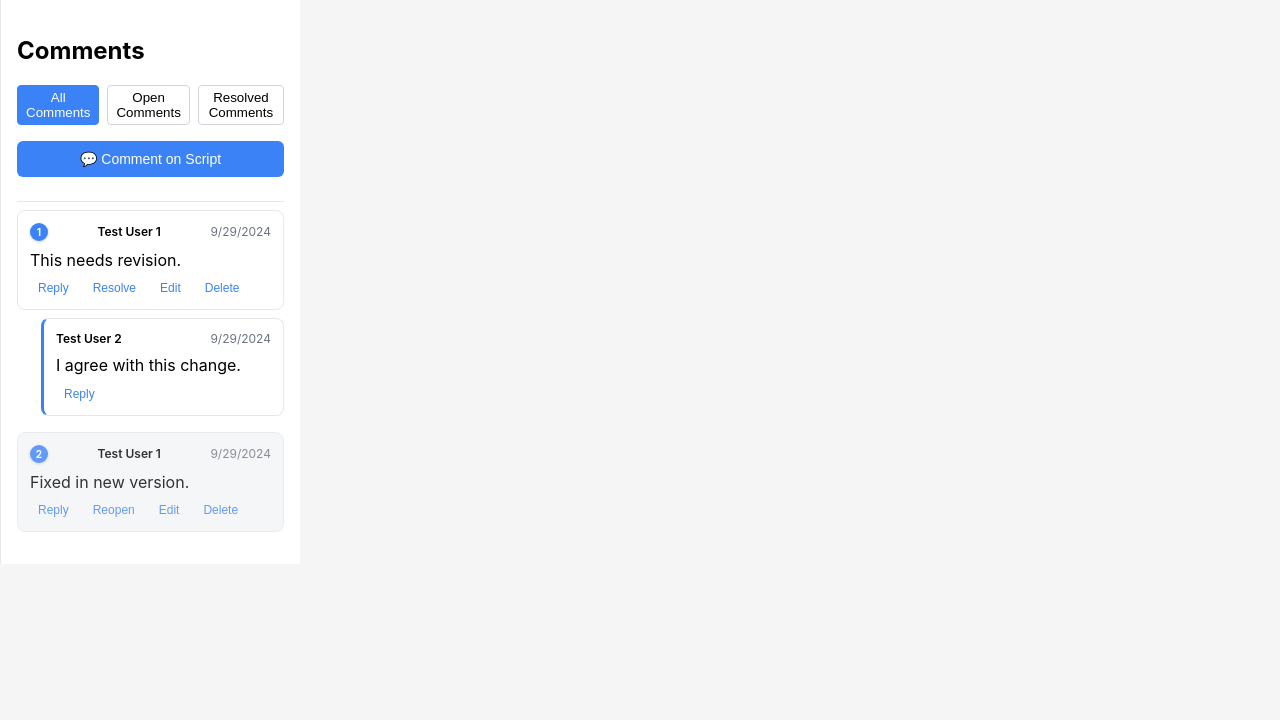
Test case: CommentSidebar › Delete Functionality - TDD (Fixed: Mock pattern corrected) › should cancel deletion when cancel button is clicked
Click the button "Delete" below "This needs revision." at (222, 288), box [197, 279, 247, 297]
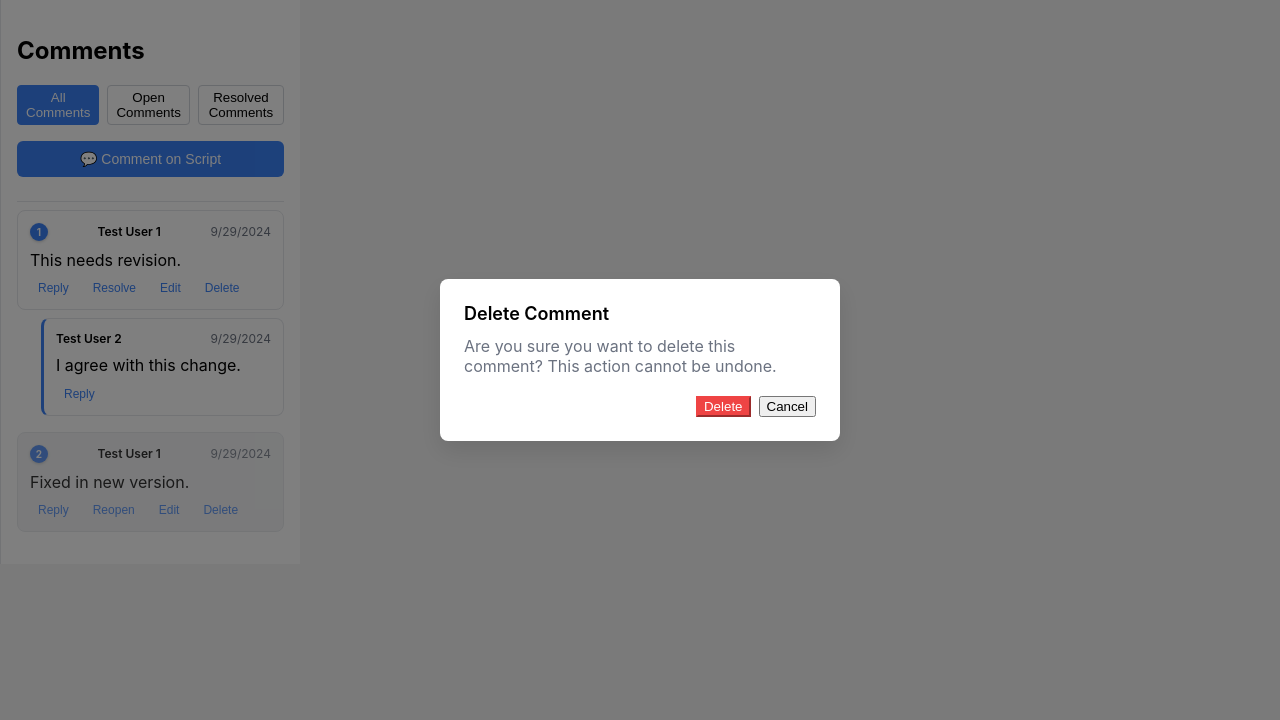
# Cancel deletion
Click the button with aria-label "cancel delete" at (787, 406), box [758, 396, 816, 417]
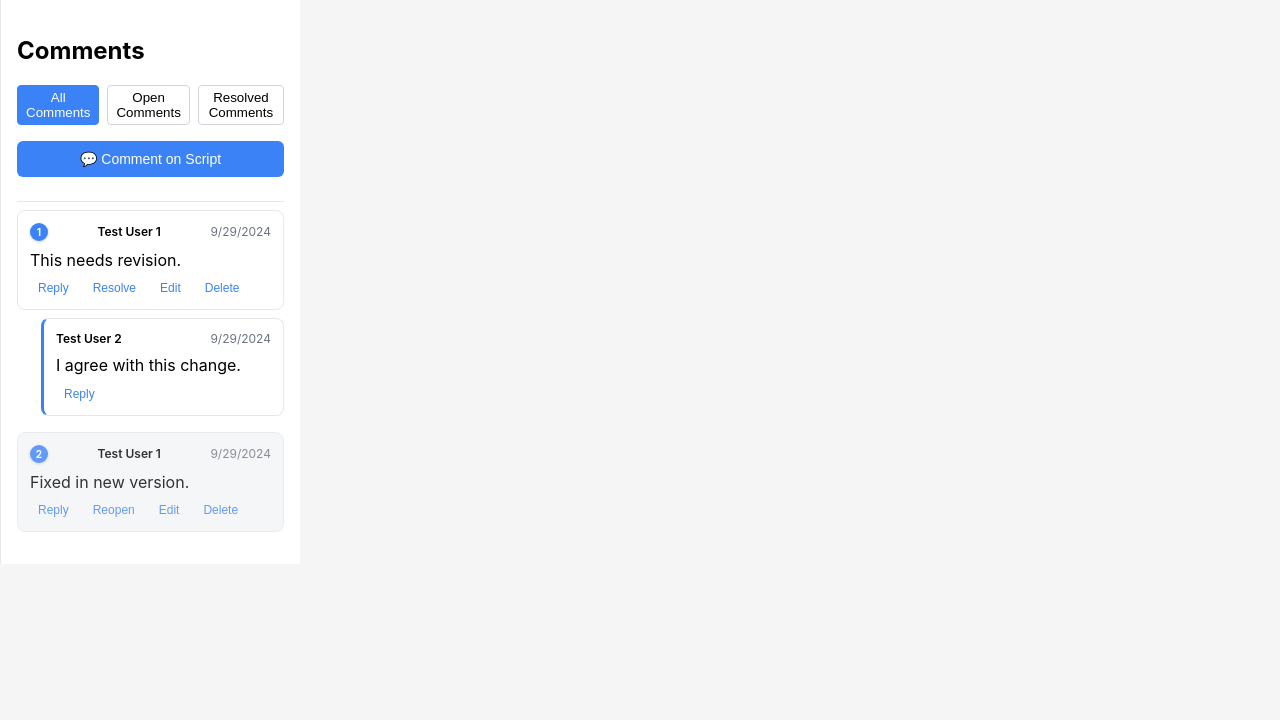
Check: the heading "Delete Comment" is gone
